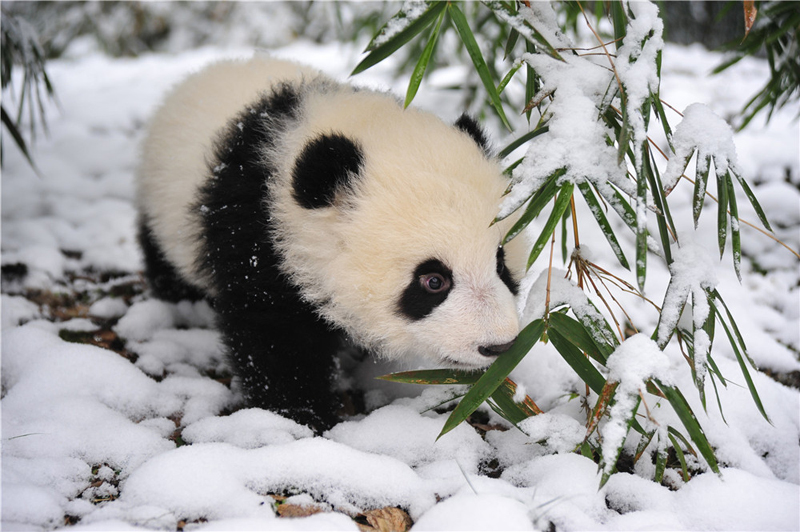panda: (121, 57, 578, 411)
